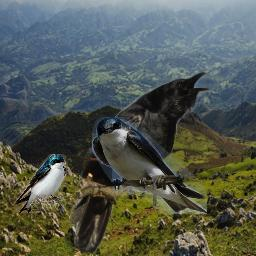Crow: (68, 68, 212, 252)
Swallow: (92, 117, 207, 214), (14, 154, 66, 213)
